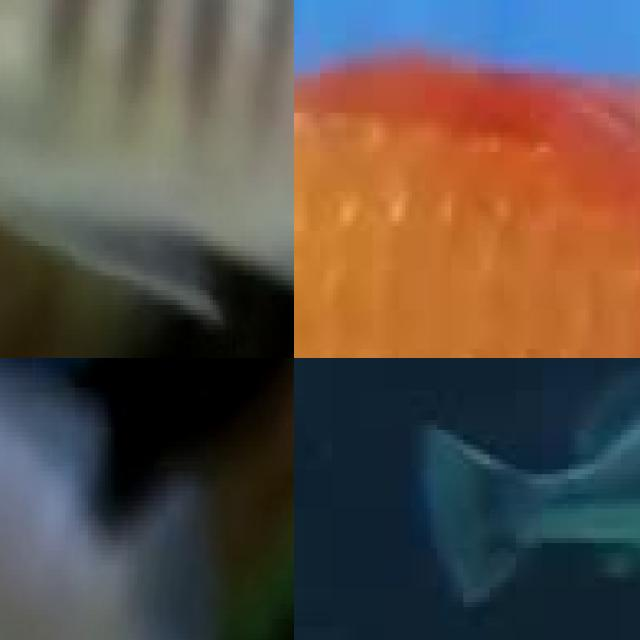fish: (0, 0, 294, 358), (0, 358, 294, 466)
